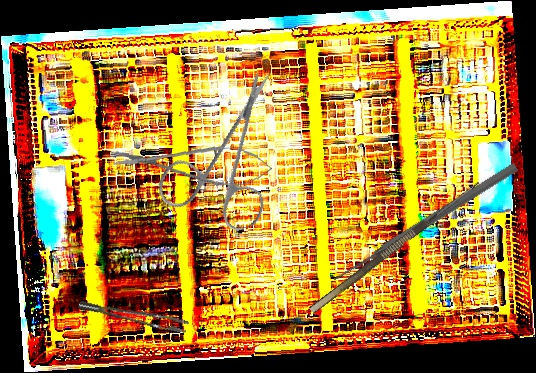Hook Surgical: (301, 171, 483, 314)
Iris Scissors: (130, 68, 321, 254)
Micro Scissor: (112, 137, 274, 190)
Pusher: (330, 160, 520, 286)
Tissue Forceps: (77, 286, 190, 344)
